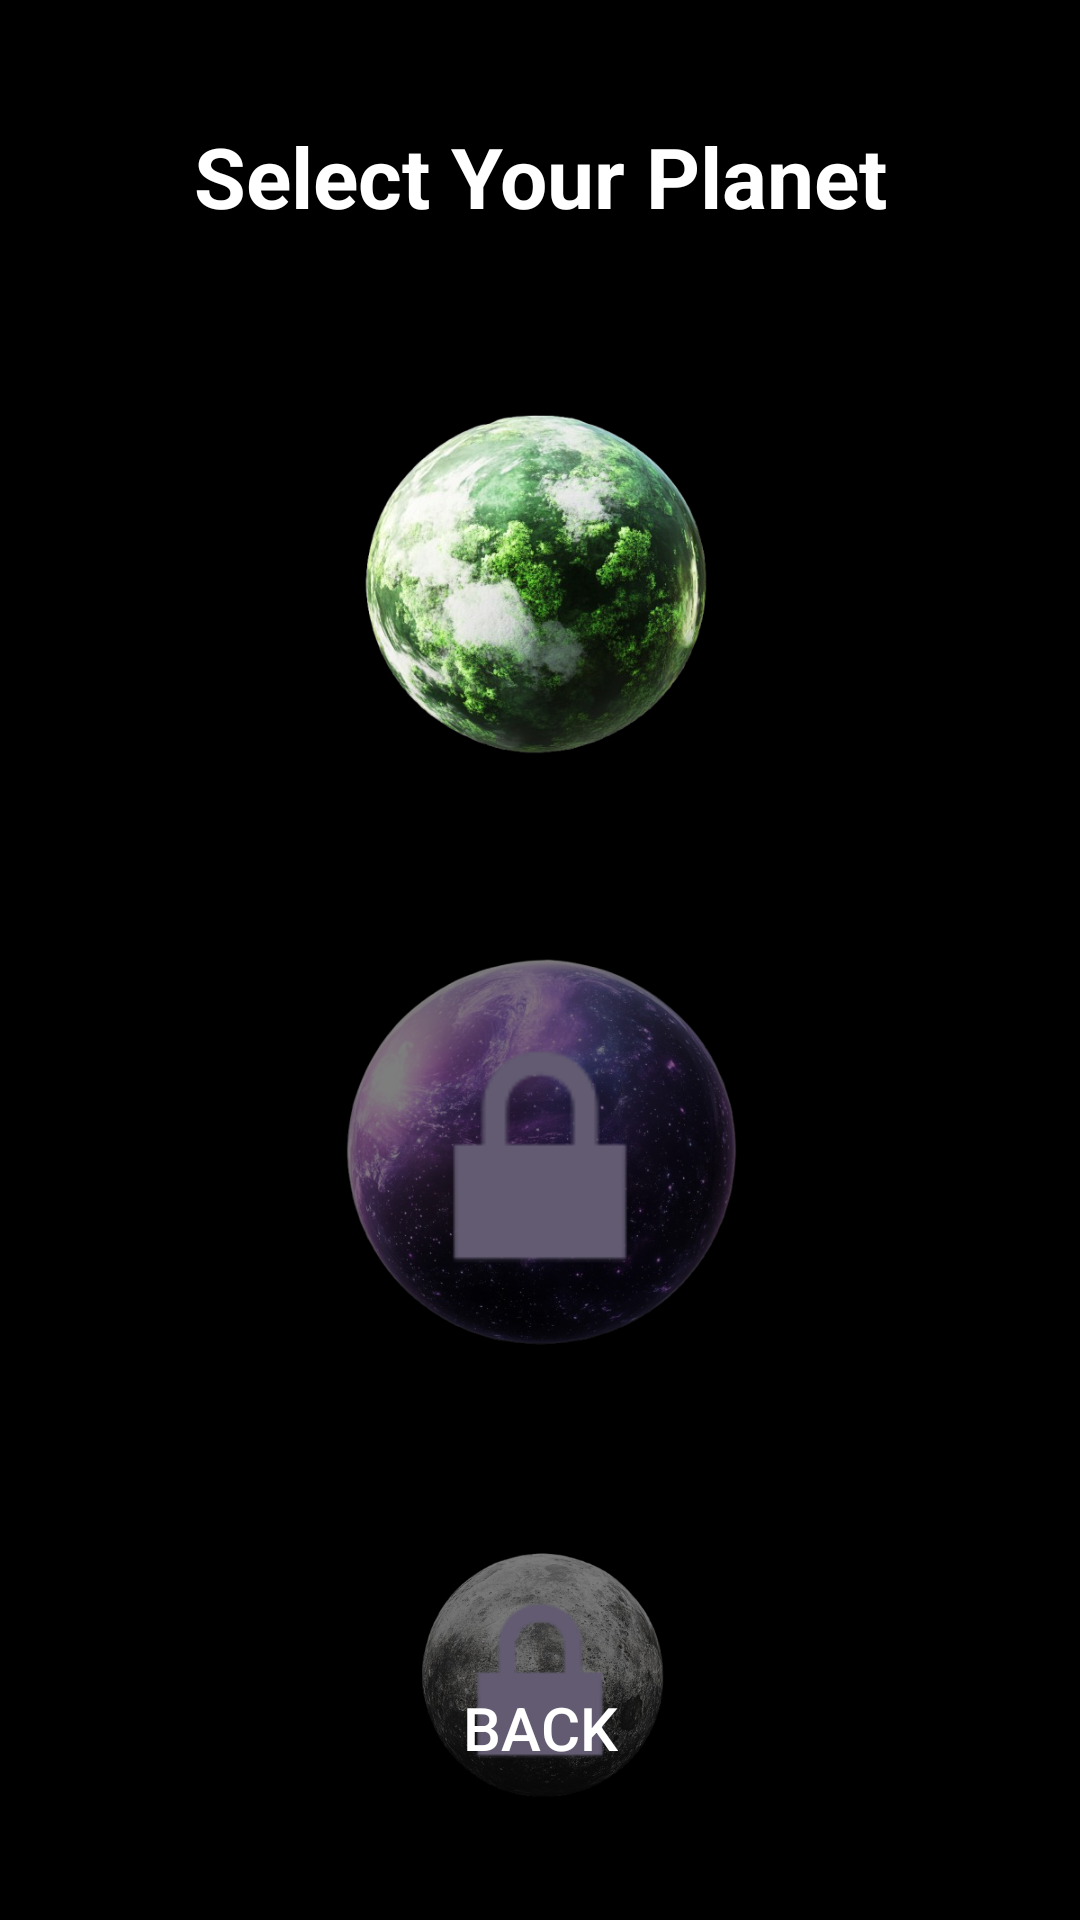

Screen size 1080px×1920px. Icon name, then its box in pixels as (x1, y1, x2, y2):
Green Planet: (365, 415, 706, 753)
